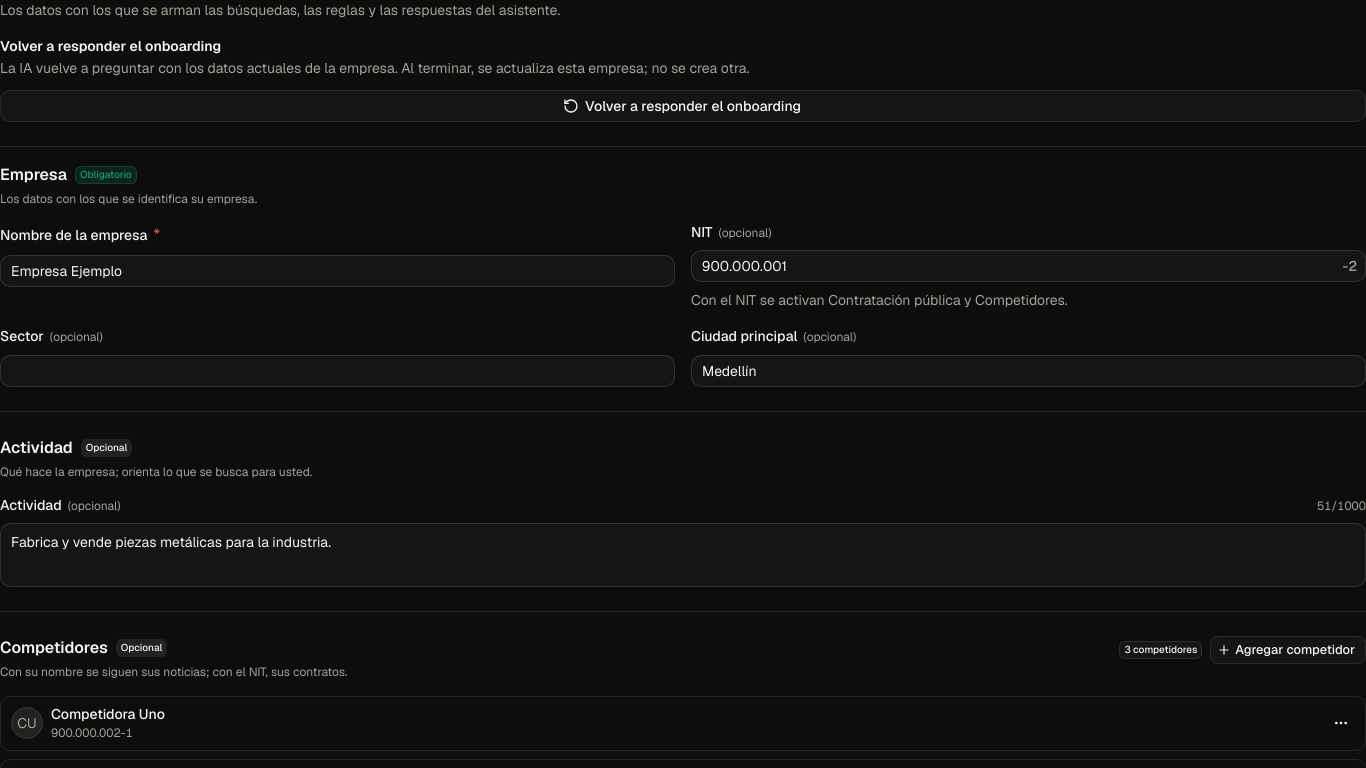
EmpresaTab › rejects an invalid NIT without touching the company
The image size is (1366, 768).
Clear the field labelled "NIT" at (1017, 266), box [692, 250, 1343, 282]
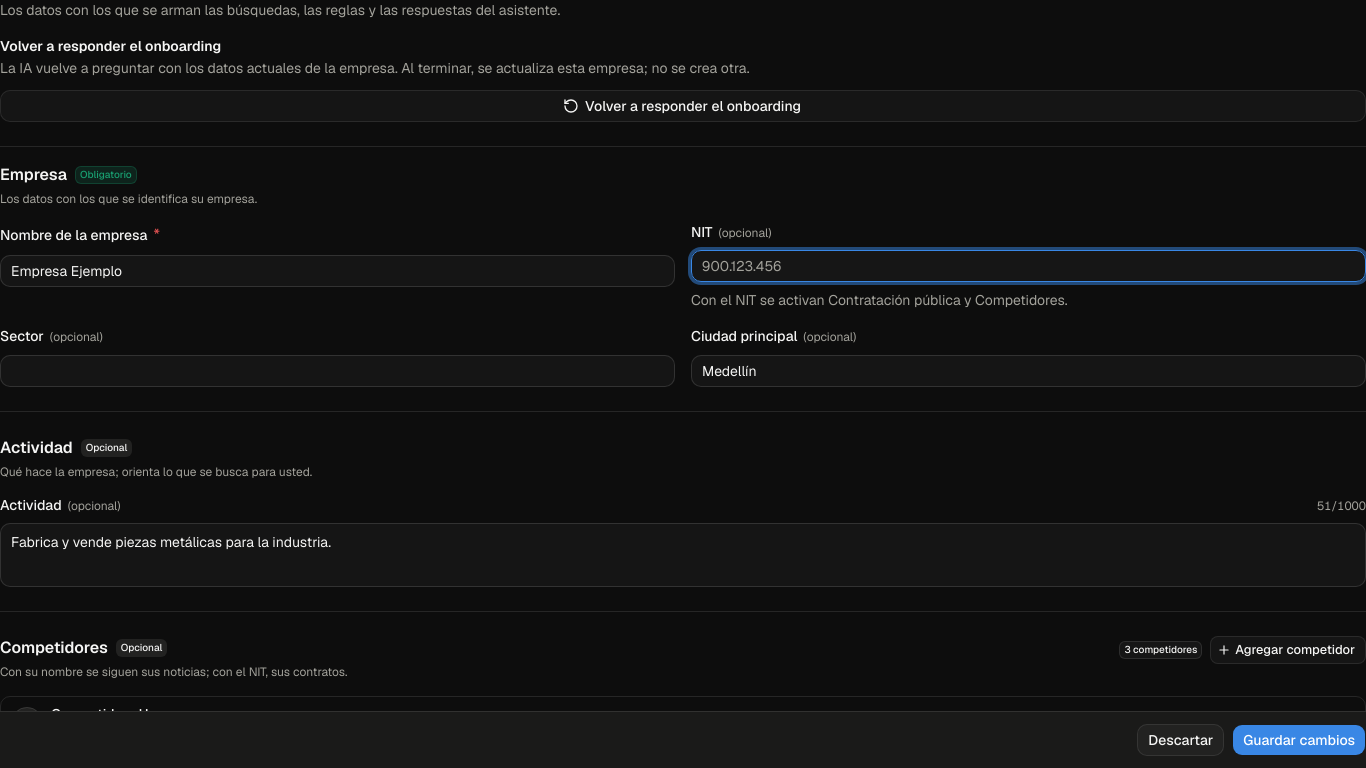
Type "12" into the field labelled "NIT".
click(1028, 266); type("12")  # box [692, 250, 1365, 282]
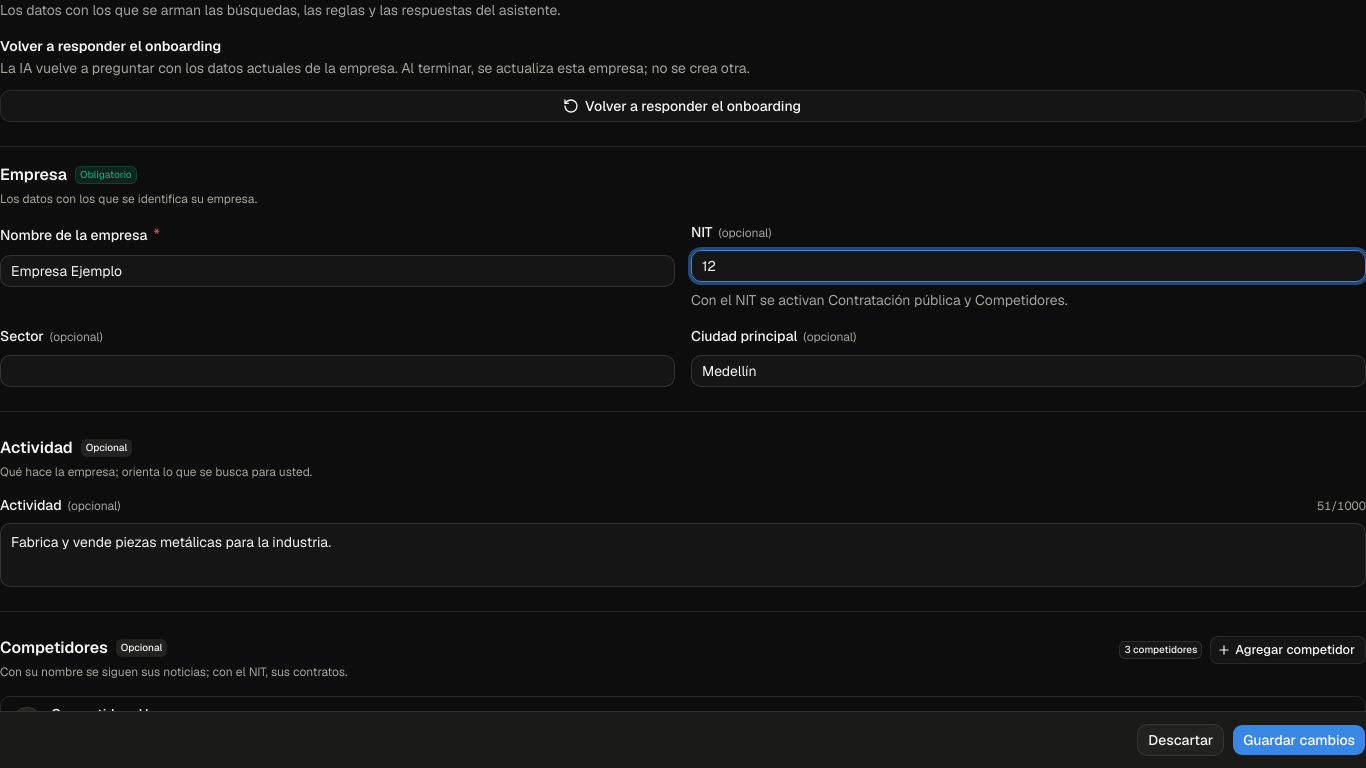
Click the button "Guardar cambios".
click(1299, 740)  # box [1232, 724, 1365, 756]
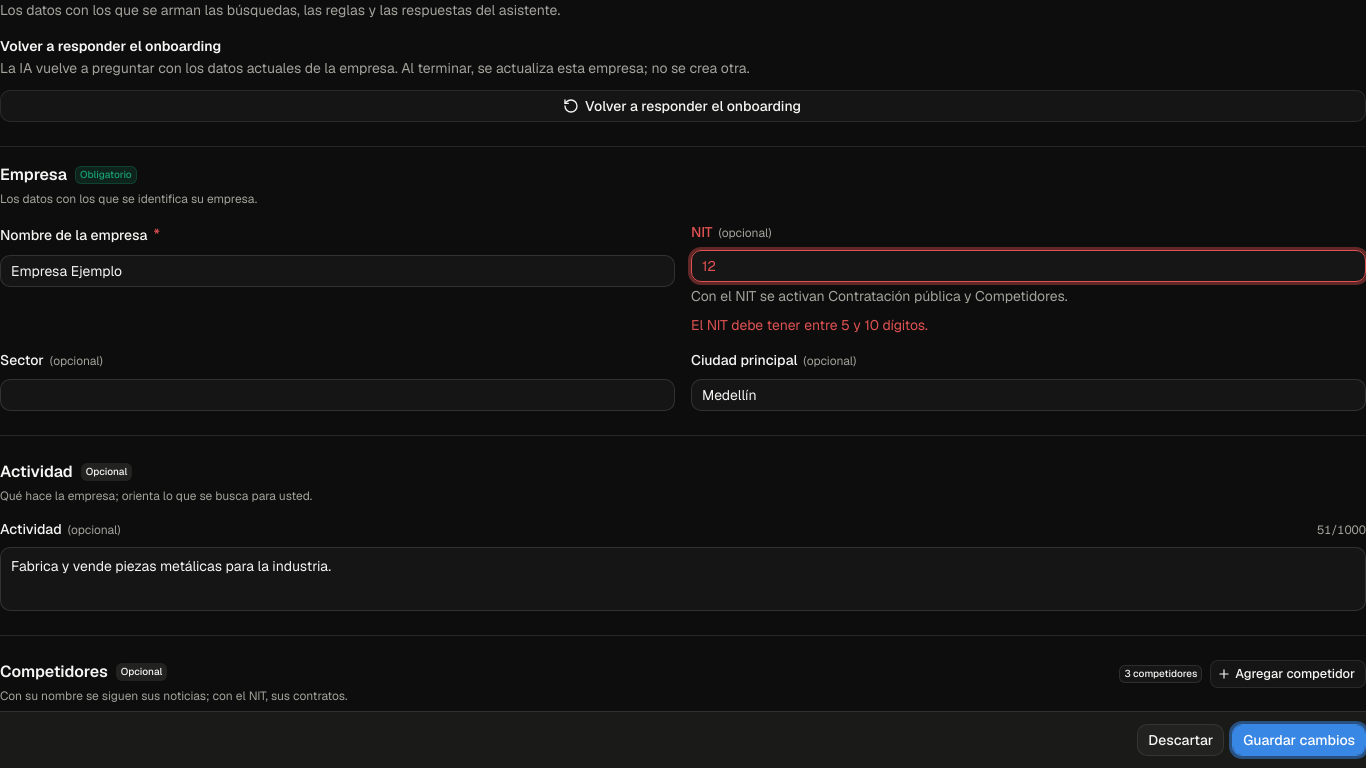
Expected: the text "El NIT debe tener entre 5 y 10 dígitos." is shown, [691, 316, 928, 334]
